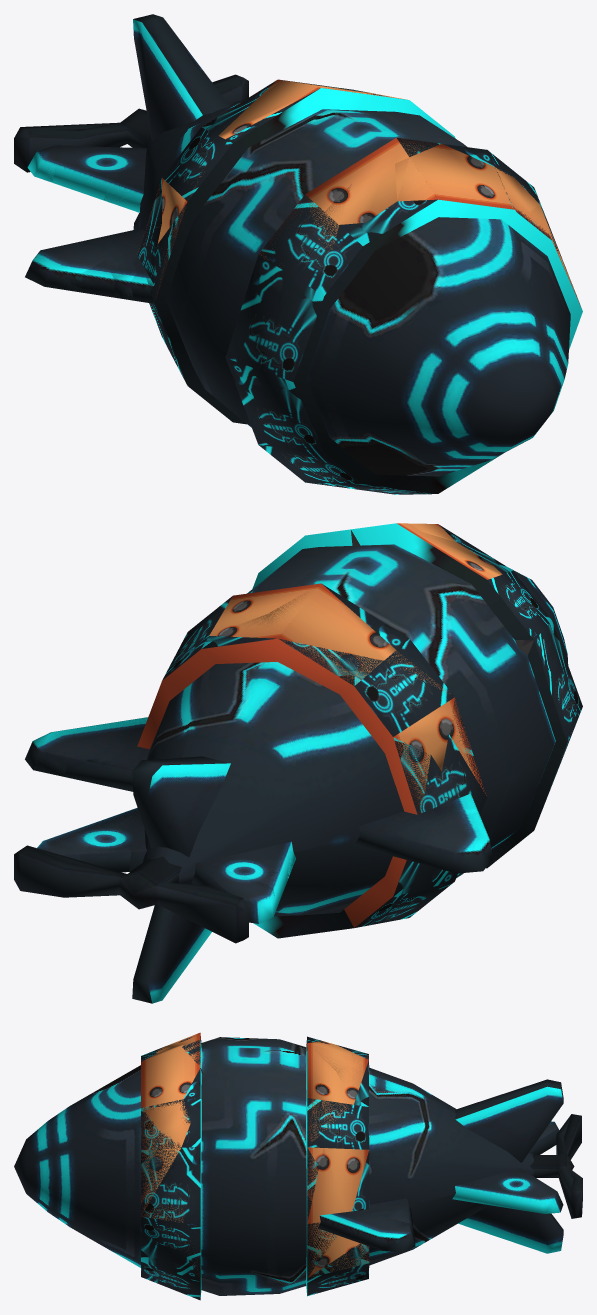
File: DDT.fbx
3 views of the same model, one above another, from view 1: azimuth 30°, elevation 25°; view 2: azimuth 150°, elevation 25°; view 3: azimuth 270°, elevation 25° (orthographic). The views are drawn at different scales.
Parts seen in each view (by area): view 1: Body, Fortification, Fortification4, Fortification2, FinRightDamage, BrokenPropeller, FinRight, Fortification3, Body3, Fortification1, Propeller; view 2: Body, Fortification, Fortification1, Fortification4, FinRight, BrokenPropeller, Fortification2, Fortification3, Propeller, FinRightDamage, Body2, Body3 (+1 smaller); view 3: Body, Fortification, Fortification2, Fortification4, Fortification3, Fortification1, Body1, BrokenPropeller, Propeller, Body2.
Boxes of the visible parts, x1,y1,x2,y2 form: Body: (27, 14, 570, 476); Fortification: (137, 80, 582, 494); Fortification4: (191, 79, 513, 255); Fortification2: (259, 85, 437, 259); FinRightDamage: (41, 228, 154, 302); BrokenPropeller: (14, 74, 248, 172); FinRight: (25, 228, 154, 303); Fortification3: (137, 168, 550, 296); Body3: (35, 145, 145, 212); Fortification1: (204, 87, 581, 307); Propeller: (20, 78, 243, 130); Body: (25, 544, 568, 1003); Fortification: (162, 523, 582, 938); Fortification1: (137, 638, 417, 927); Fortification4: (209, 523, 533, 694); FinRight: (354, 793, 492, 873); BrokenPropeller: (14, 845, 248, 943); Fortification2: (209, 523, 502, 638); Fortification3: (393, 697, 486, 814); Propeller: (28, 845, 242, 943); FinRightDamage: (360, 797, 488, 851); Body2: (45, 808, 146, 871); Body3: (199, 843, 295, 915); Body: (14, 1037, 563, 1295); Fortification: (141, 1036, 369, 1300); Fortification2: (143, 1032, 369, 1277); Fortification4: (141, 1040, 368, 1222); Fortification3: (141, 1100, 367, 1280); Fortification1: (141, 1040, 369, 1222); Body1: (322, 1199, 415, 1244); BrokenPropeller: (530, 1114, 582, 1218); Propeller: (558, 1114, 581, 1218); Body2: (457, 1177, 548, 1199).
Size of the model in its own units: 35.34 by 26.31 by 53.46.
